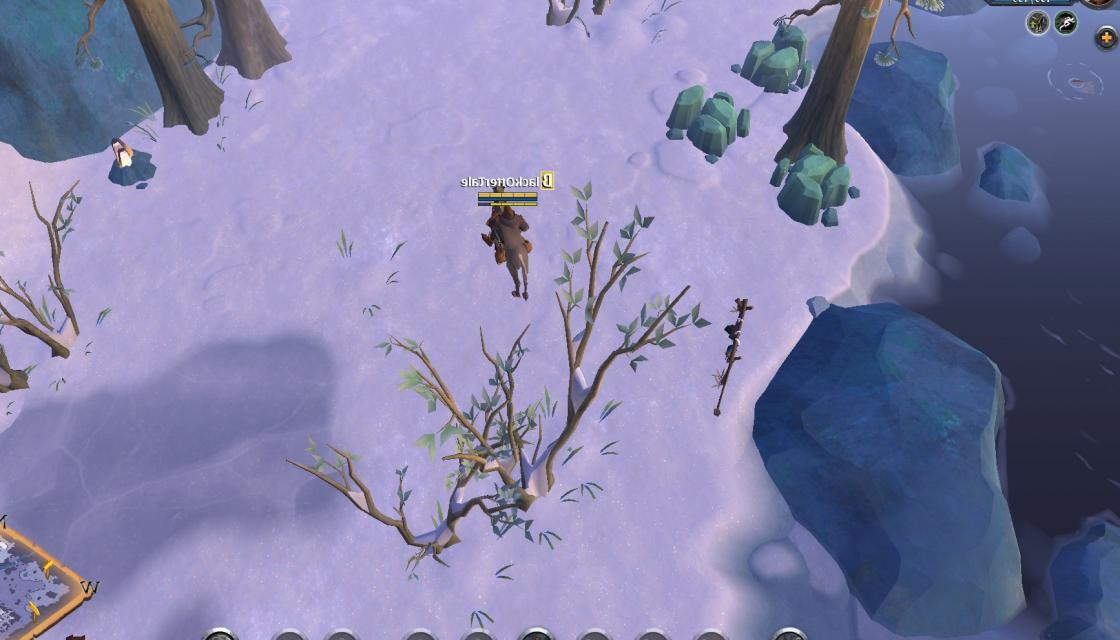copperore: (99, 130, 163, 189)
sandstone: (770, 140, 866, 226), (668, 79, 750, 159), (736, 25, 816, 96)
